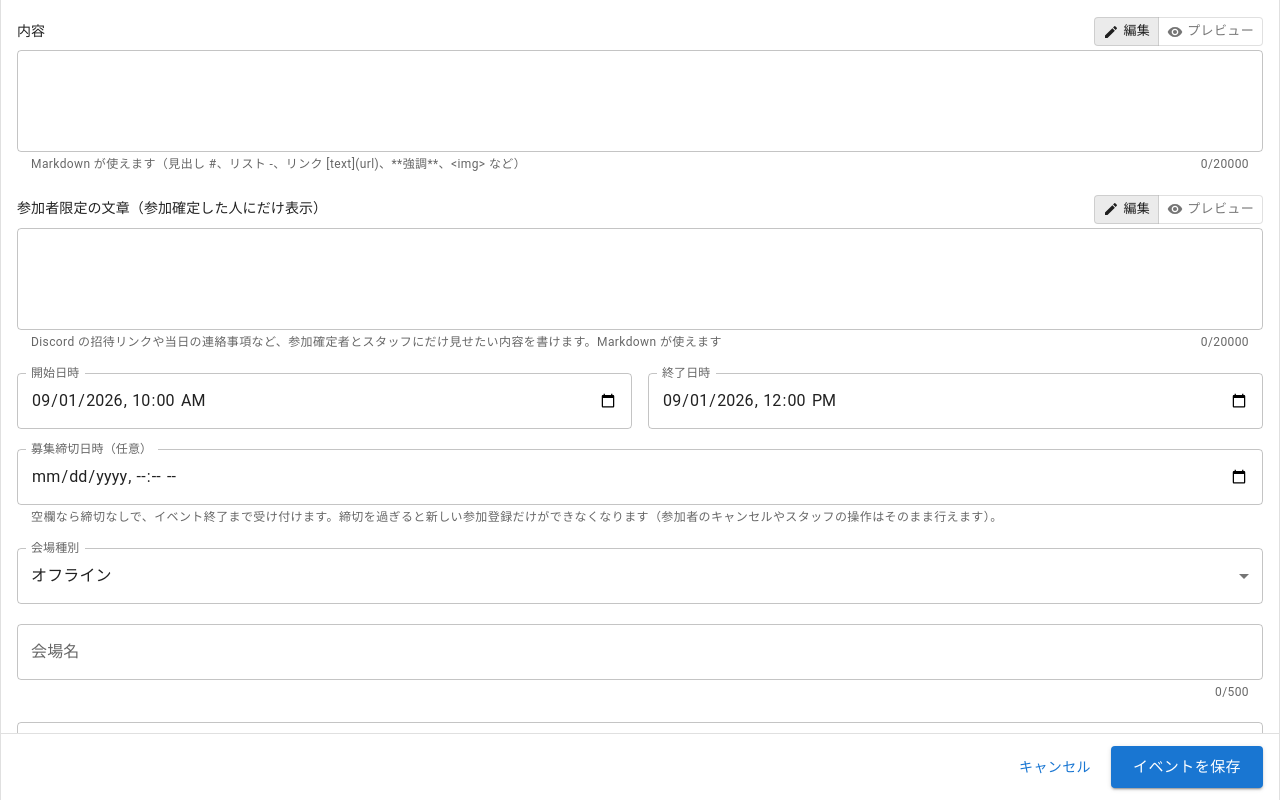
Test: イベント編集の日時順序の警告 (#399) › 終了を開始より後に直すと警告が消えて保存できる
(page scrolled)
Replace the text in the field labelled "終了日時" with "2026-09-01T09:00" at (956, 401), box [648, 373, 1263, 429]
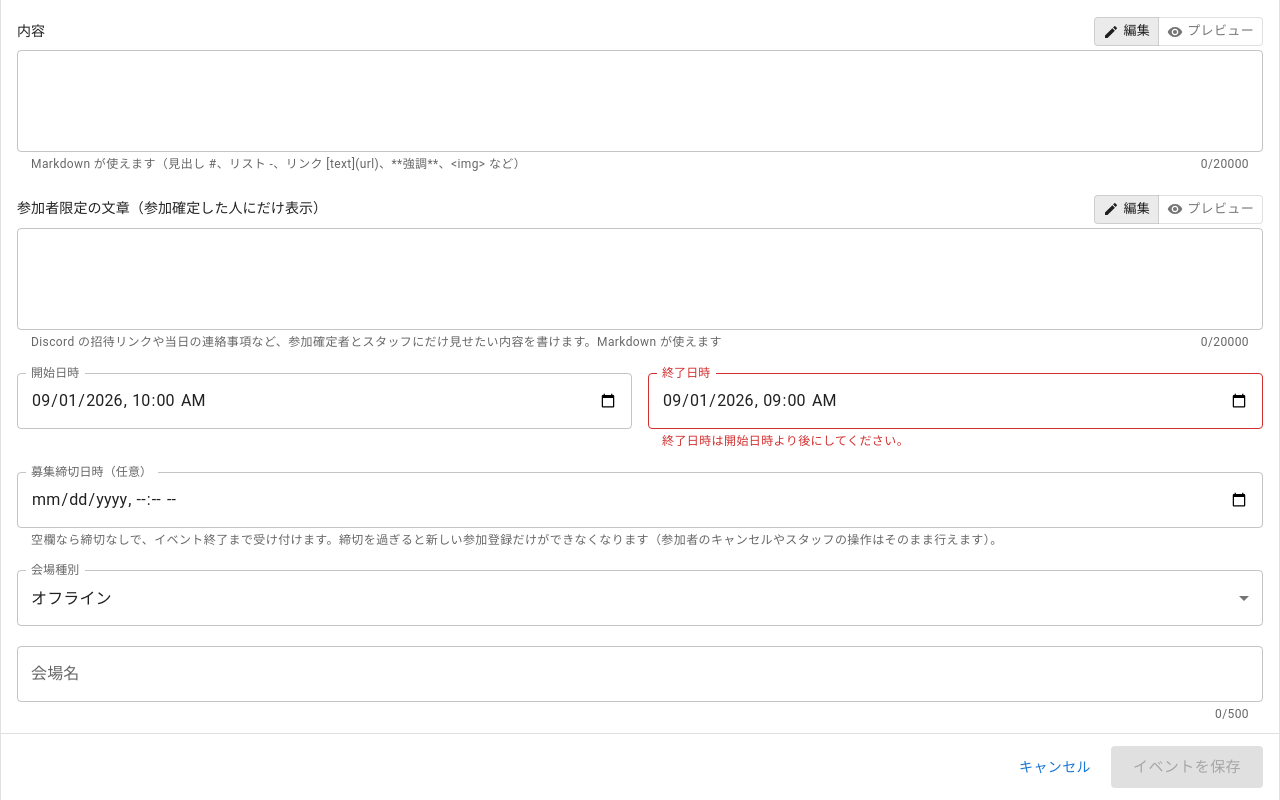
Replace the text in the field labelled "終了日時" with "2026-09-01T13:00" at (956, 401), box [648, 373, 1263, 429]
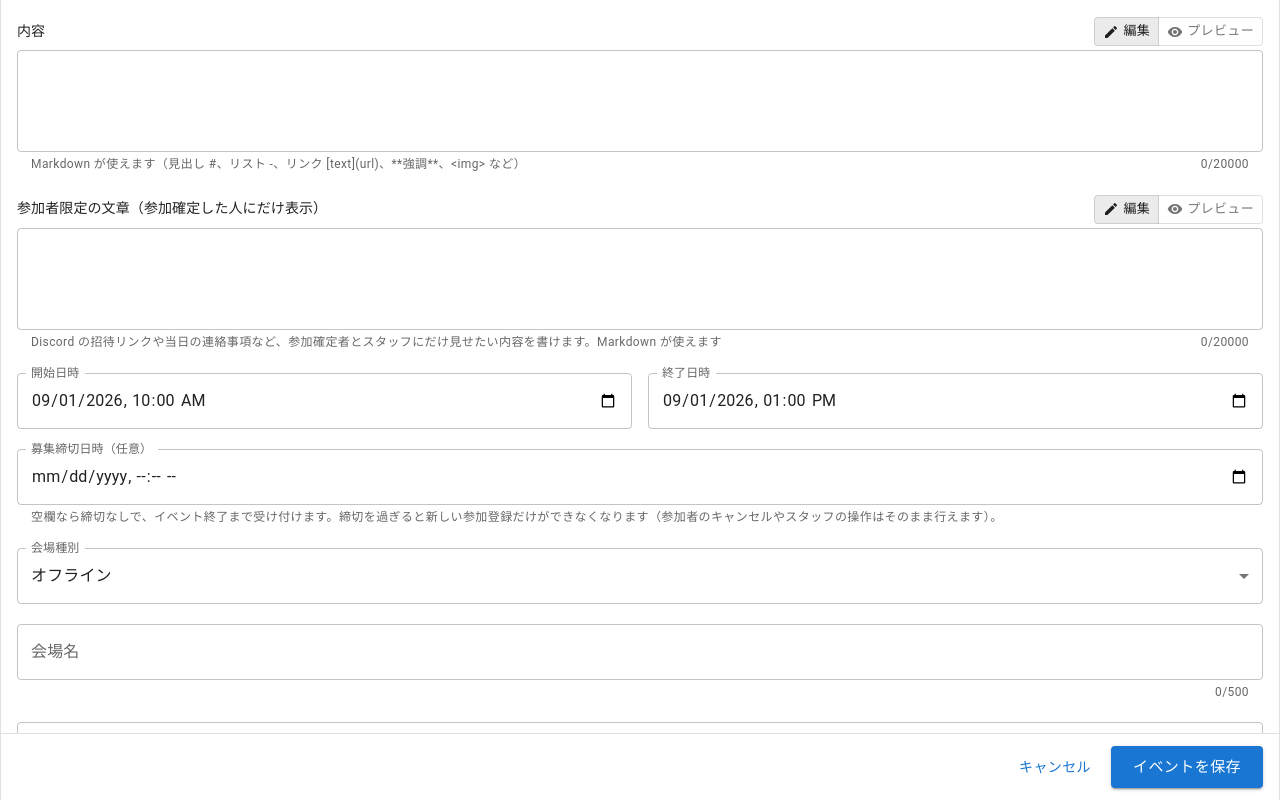
Expected: the text "終了日時は開始日時より後にしてください。" is gone
Expected: the button "イベントを保存" is enabled, [1111, 746, 1263, 788]
